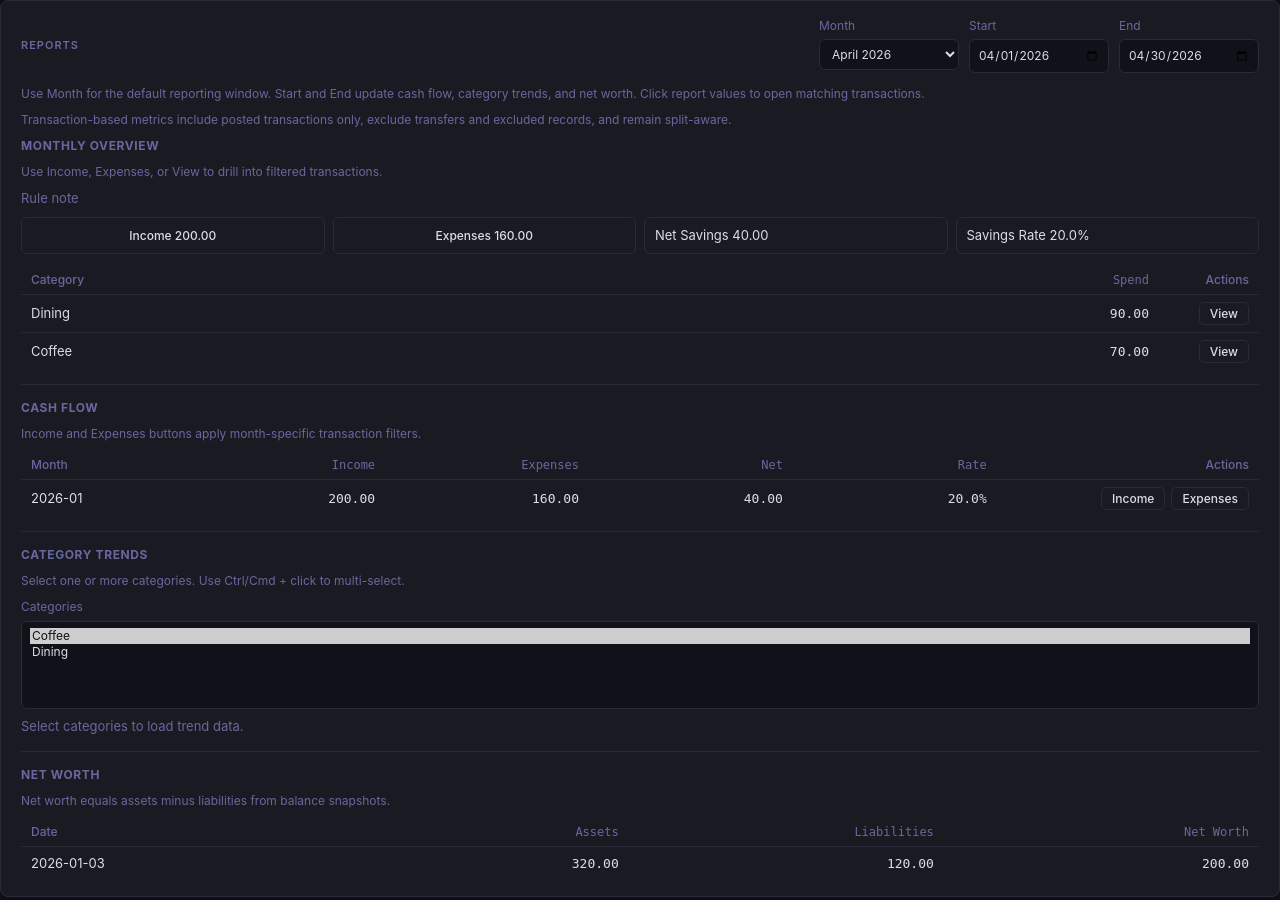
ReportsPanel › requests category trends after categories are selected  REQ: ACC-REP-004
Select "Coffee" in the dropdown with test id "report-trend-categories" at (640,665), box x1=21 y1=621 x2=1259 y2=709
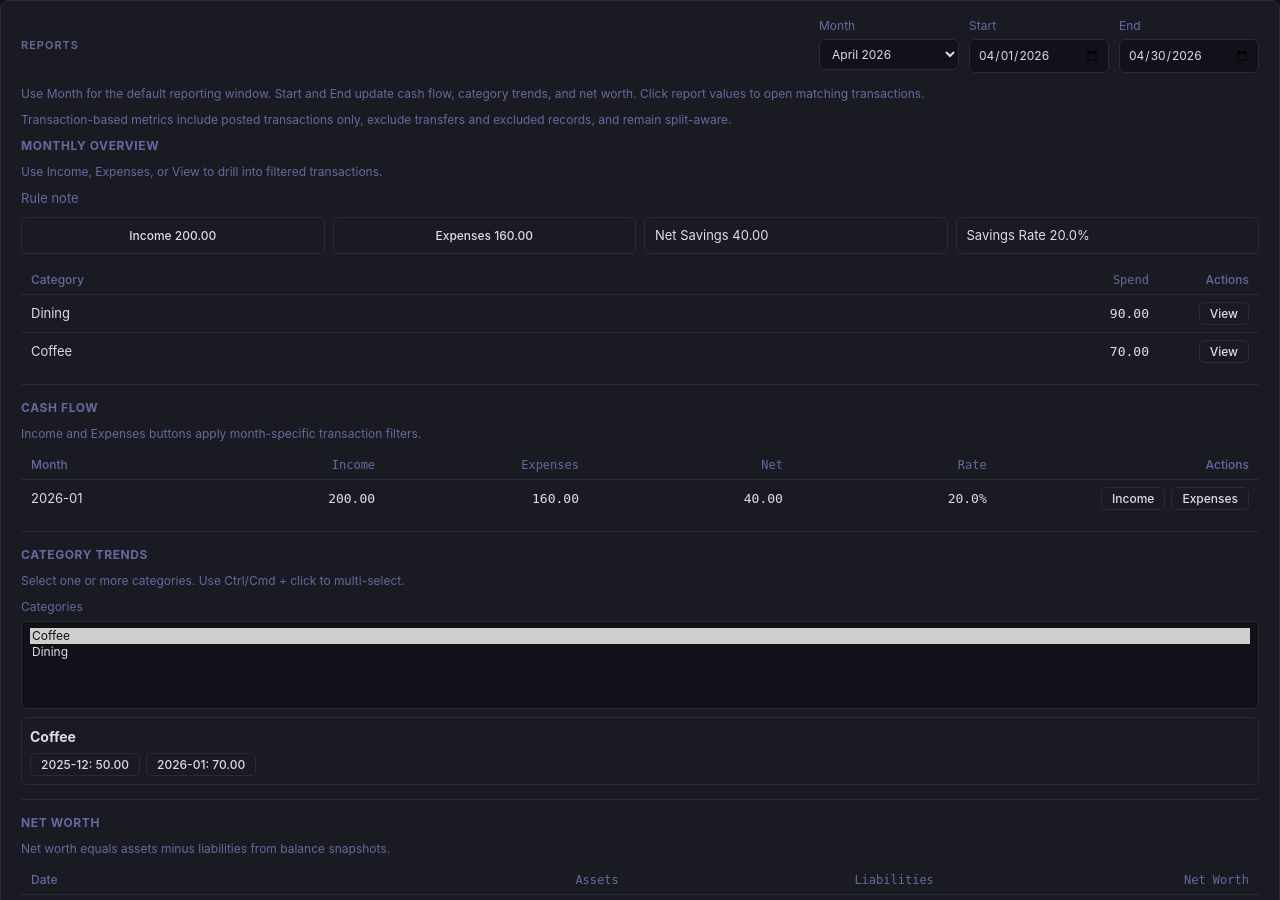
Result: the element with test id "report-category-trends" is shown at x1=21 y1=717 x2=1259 y2=785
